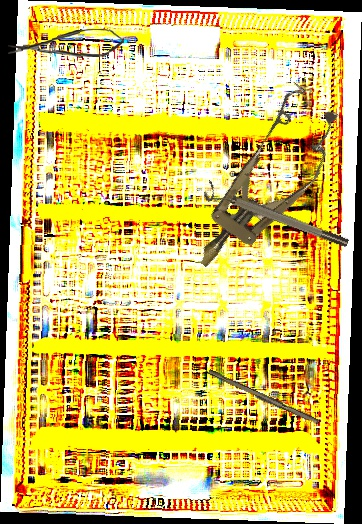Fixation Ring: (201, 180, 351, 256)
Micro Scissor: (7, 27, 125, 61)
Scalpel Handle: (206, 368, 320, 427)
Speculum: (172, 81, 355, 288)
